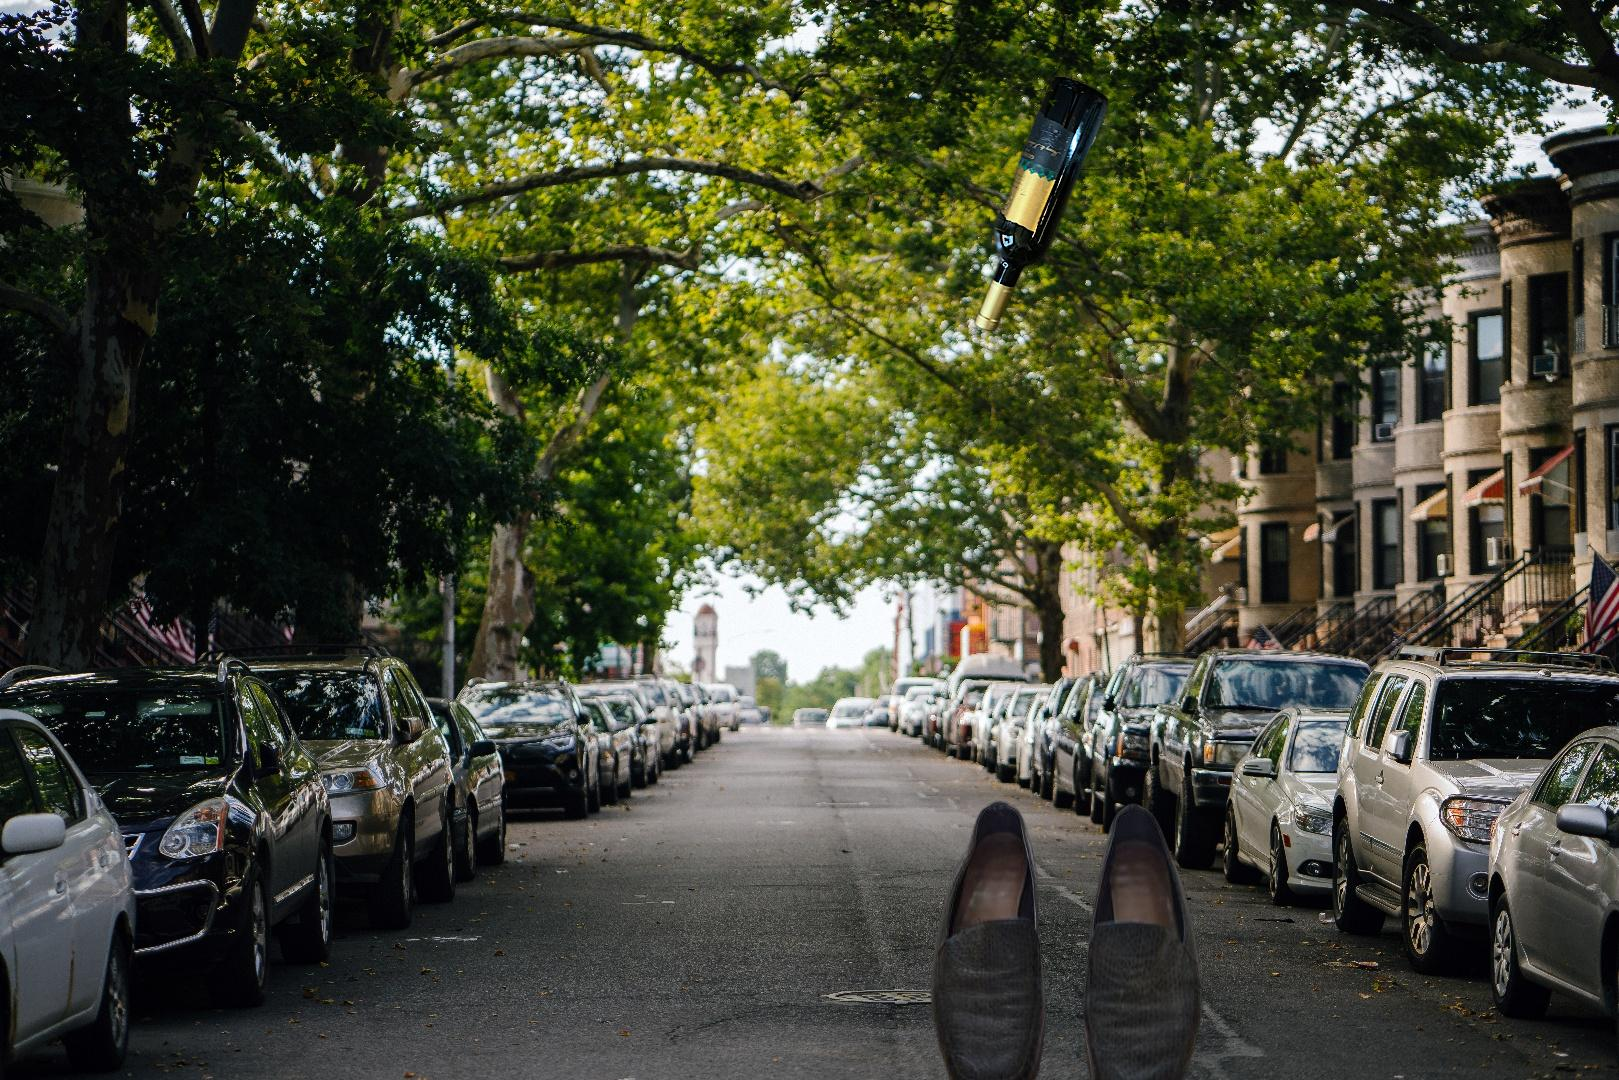glass: (970, 70, 1113, 337)
shoes: (927, 796, 1206, 1080)
